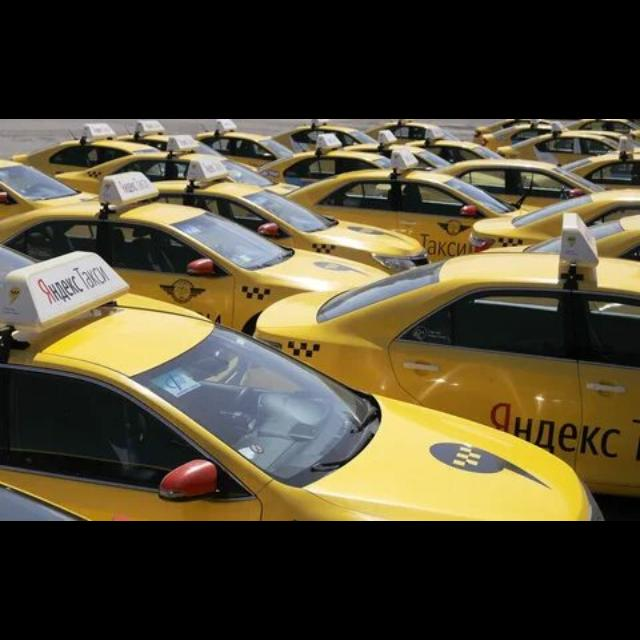taxi: (1, 251, 607, 521), (252, 215, 640, 499)
